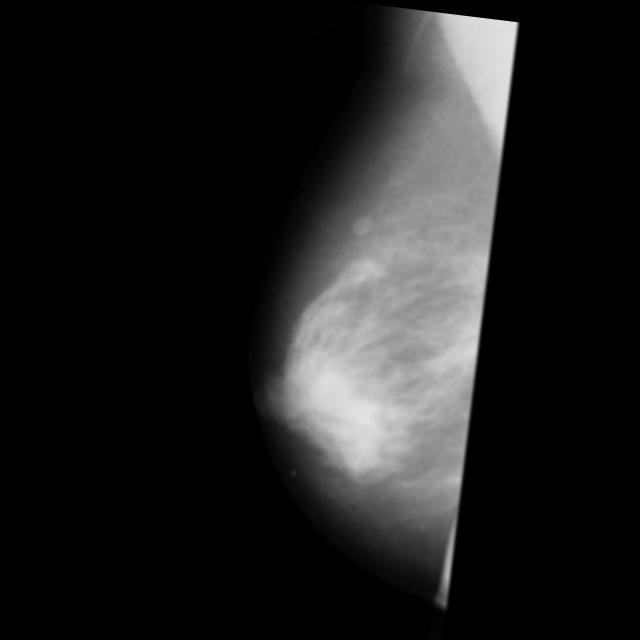ASYM: (453, 316, 492, 354)
